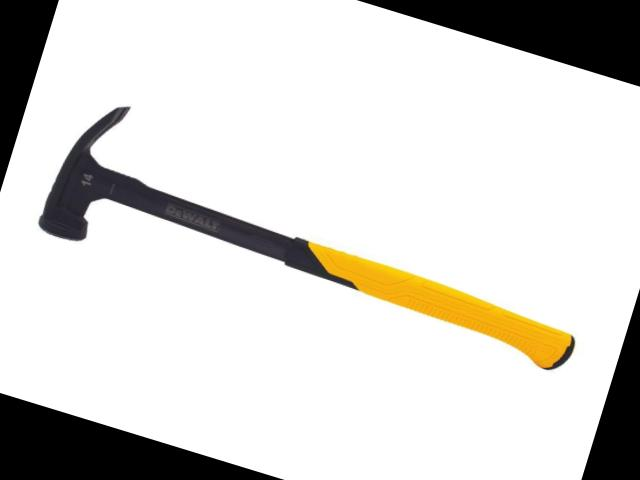hammer: (34, 89, 602, 389)
